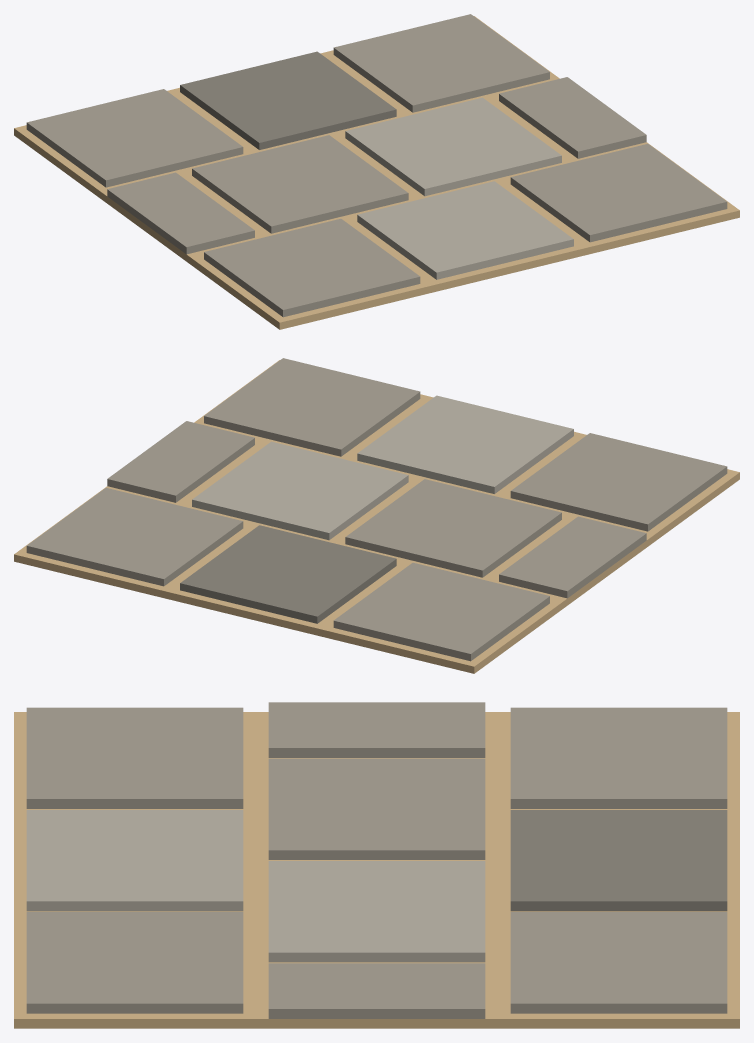
The model's file is Road1-lvl2.fbx.
3 renders of one model, top to bottom at view 1: azimuth 30°, elevation 25°; view 2: azimuth 150°, elevation 25°; view 3: azimuth 270°, elevation 25°, orthographic. The views are drawn at different scales.
Visible parts, largest first — view 1: Road1-lvl2; view 2: Road1-lvl2; view 3: Road1-lvl2.
Part boxes in pixels (x1,y1,x2,y2): Road1-lvl2: (14,14,739,329); Road1-lvl2: (14,358,739,673); Road1-lvl2: (14,702,739,1028).
Size of the model in its own units: 1 by 0.03 by 1.
